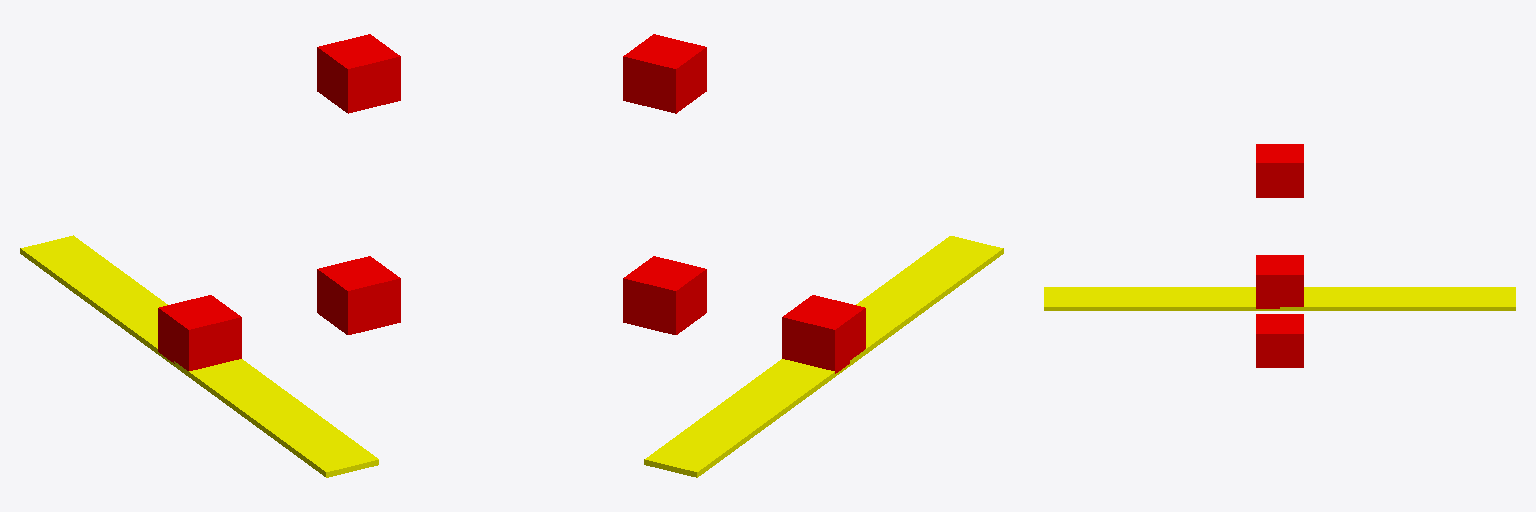
The robot description file, URDF, robot "simple_robot":
<robot name="simple_robot"> <!-- robot name- you decide -->
<!-- sequence : link-joint-link-joint-...-link... -->
<!-- units: meters for distance,rad in case of angles -->
<!-- first link called base_link -->
<link name= "base_link">
	<visual>
		<geometry>
        	<box size="1.0 0.1 0.01"/>
      	</geometry>
		<origin rpy="0 0 1.5707" xyz="0 0 0"/> <!-- rpy: roll pitch yaw -> orientation xyz -> position --> 
		<material name= "base_color">
			<color rgba="1 1 0 1"/> 
		</material>
	</visual>

</link>

<!-- first joint-->
<joint name="joint1" type= "prismatic"> <!-- types: revolute and prismatic -->
	<parent link="base_link"/>
	<child link="link1"/>
	<origin xyz ="0 0 0"/>
	<axis xyz="0 -1 0"/>
	<limit effort="300" velocity="0.1" lower="-0.5" upper="0.5"/>
	<dynamics damping="50" friction="1"/>

</joint>
<!-- link1-->
<link name= "link1">
	<visual>
		<geometry>
        	<box size="0.1 0.1 0.08"/>
      	</geometry>
		<origin rpy="0 0 0" xyz="0 0 0.04"/> <!-- rpy: roll pitch yaw -> orientation xyz -> position --> 
		<material name= "link1_color">
			<color rgba="1 0 0 1"/> 
		</material>
	</visual>
</link>

<!-- second joint-->
<joint name="joint2" type= "prismatic"> <!-- types: revolute and prismatic -->
	<parent link="link1"/>
	<child link="link2"/>
	<origin xyz ="0.3 0 0"/>
	<axis xyz="1 0 0"/>
	<limit effort="300" velocity="0.1" lower="-0.2" upper="0.2"/>
	<dynamics damping="50" friction="1"/>

</joint>
<!-- link2-->
<link name= "link2">
	<visual>
		<geometry>
        	<box size="0.1 0.1 0.08"/>
      	</geometry>
		<origin rpy="0 0 0" xyz="0 0 0.04"/> <!-- rpy: roll pitch yaw -> orientation xyz -> position --> 
		<material name= "link2_color">
			<color rgba="1 0 0 1"/> 
		</material>
	</visual>
</link>

<!-- third joint-->
<joint name="joint3" type= "prismatic"> <!-- types: revolute and prismatic -->
	<parent link="link2"/>
	<child link="link3"/>
	<origin xyz ="0 0 0.4"/>
	<axis xyz="0 0 1"/>
	<limit effort="300" velocity="0.1" lower="-0.3" upper="0.3"/>
	<dynamics damping="50" friction="1"/>

</joint>
<!-- link3-->
<link name= "link3">
	<visual>
		<geometry>
        	<box size="0.1 0.1 0.08"/>
      	</geometry>
		<origin rpy="0 0 0" xyz="0 0 0.04"/> <!-- rpy: roll pitch yaw -> orientation xyz -> position --> 
		<material name= "link3_color">
			<color rgba="1 0 0 1"/> 
		</material>
	</visual>
</link>

<!-- link extra-->
<joint name="joint4" type="fixed">
	<parent link="link3"/>
	<child link="link4"/>
	<origin xyz="0.25 0 0"/>
	<axis xyz="1 0 0"/>
	<limit effort="300" velocity="0.1" lower="-3.14159" upper="3.14159"/>
    <dynamics damping="50" friction="1"/>
</joint>
  
<link name="link4">
	<visual>
		<geometry>
			<cylinder length="0.0" radius="0.0"/>
		</geometry>
		<origin rpy="0 0 0" xyz="0 0 0"/> <!-- rpy: roll pitch yaw -> orientation xyz -> position --> 
        <material name= "link4_color">
            <color rgba="0 0 0 1"/> 
        </material>
	</visual>
</link>


</robot>

--- Render facts (derived) ---
Views: 3 orthographic renders of the robot side by side, from view 1: azimuth 30°, elevation 25°; view 2: azimuth 150°, elevation 25°; view 3: azimuth 270°, elevation 25°.
Model simple_robot with 5 links and 4 joints (3 prismatic, 1 fixed), rooted at base_link, posed all joints at 0.
Visible links, largest first — view 1: base_link, link3, link2, link1; view 2: base_link, link3, link2, link1; view 3: base_link, link2, link3, link1.
Link boxes in pixels (x1,y1,x2,y2): base_link: [20, 235, 378, 477]; link3: [317, 34, 400, 113]; link2: [317, 256, 400, 334]; link1: [158, 295, 241, 370]; base_link: [644, 236, 1003, 477]; link3: [623, 34, 706, 113]; link2: [623, 256, 706, 334]; link1: [782, 295, 865, 373]; base_link: [1044, 287, 1515, 310]; link2: [1256, 314, 1303, 367]; link3: [1256, 144, 1303, 197]; link1: [1256, 255, 1303, 308].
Bounding box of the posed robot: 0.6 × 1 × 0.485 m (x, y, z).
Geometry: primitives only (box / cylinder / sphere), no mesh files.